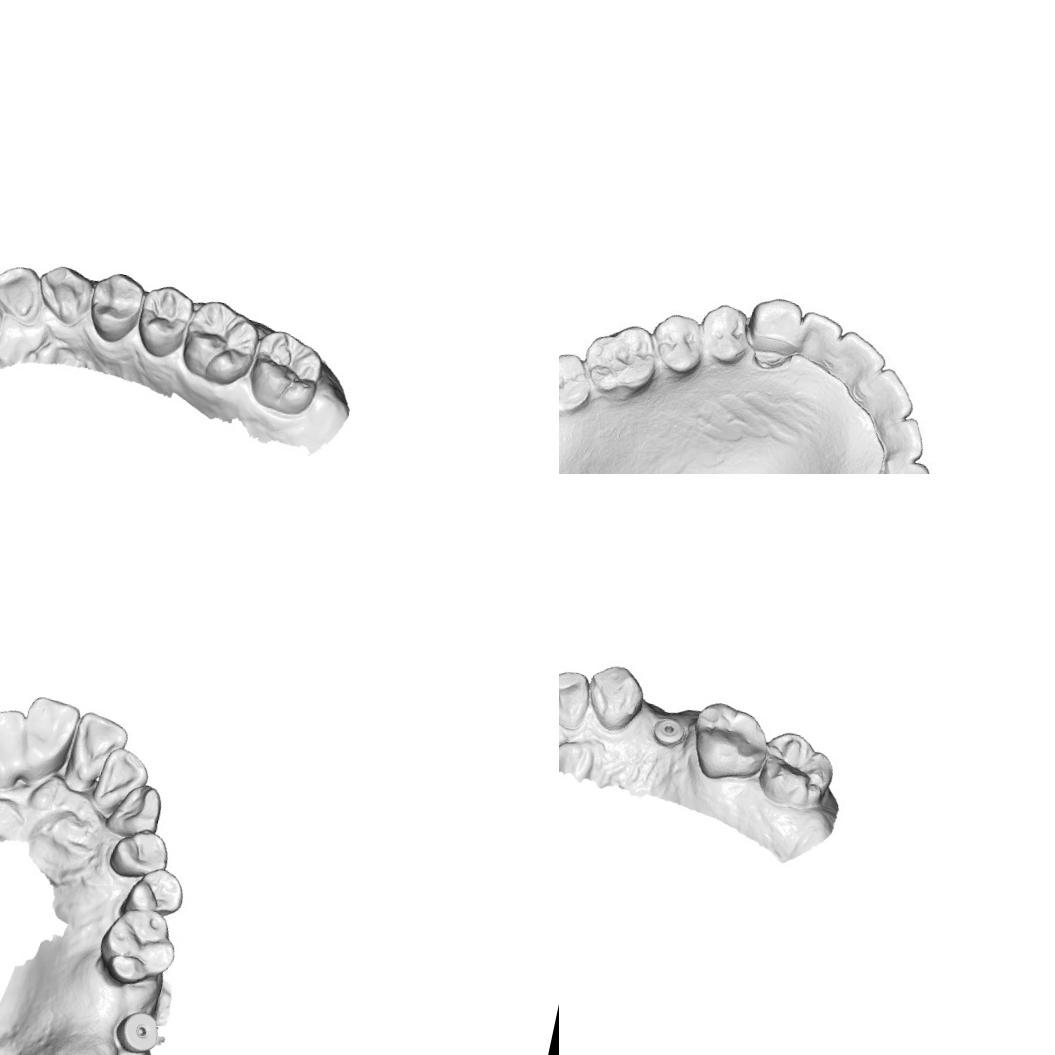canine: (579, 658, 651, 737), (30, 260, 98, 330), (103, 778, 167, 844), (744, 290, 808, 354), (871, 452, 941, 474)
implant: (110, 1006, 168, 1055), (647, 710, 689, 752)
incisor: (60, 708, 132, 802), (12, 692, 82, 786), (88, 743, 154, 822), (791, 307, 854, 377), (859, 362, 924, 425), (830, 329, 890, 390), (0, 260, 48, 328), (0, 702, 31, 791), (878, 412, 934, 460), (559, 664, 596, 735)
molar: (682, 695, 777, 790), (176, 295, 266, 393), (92, 902, 184, 994), (243, 325, 329, 420), (754, 726, 842, 816), (578, 314, 664, 400), (559, 345, 595, 422)
premolar: (133, 280, 198, 363), (84, 266, 148, 348), (118, 862, 188, 926), (647, 305, 710, 375), (105, 822, 174, 885), (696, 298, 754, 366)
